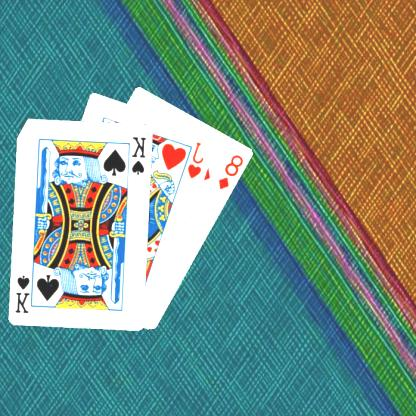8D: (218, 152, 247, 192)
JH: (186, 139, 208, 180)
KS: (15, 269, 37, 314), (131, 133, 150, 176)
